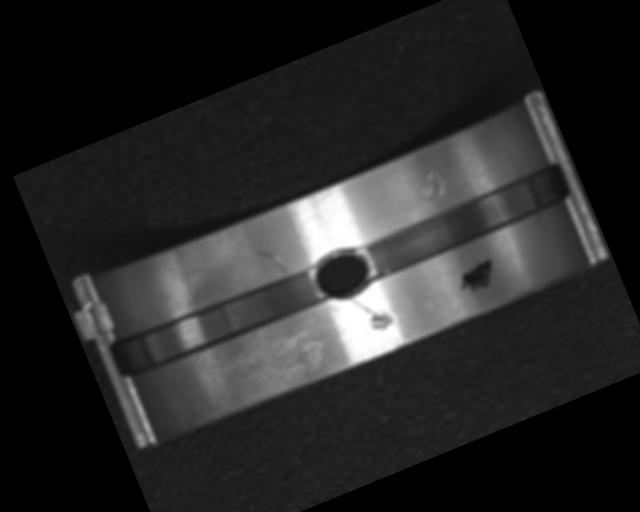blot: (454, 257, 500, 296)
bruise: (412, 164, 450, 205), (364, 306, 397, 333)
gap: (108, 260, 326, 384), (355, 160, 573, 284)
hole: (306, 239, 378, 310)
nick: (254, 243, 288, 282), (347, 289, 379, 324)
scratch: (212, 315, 331, 403)
